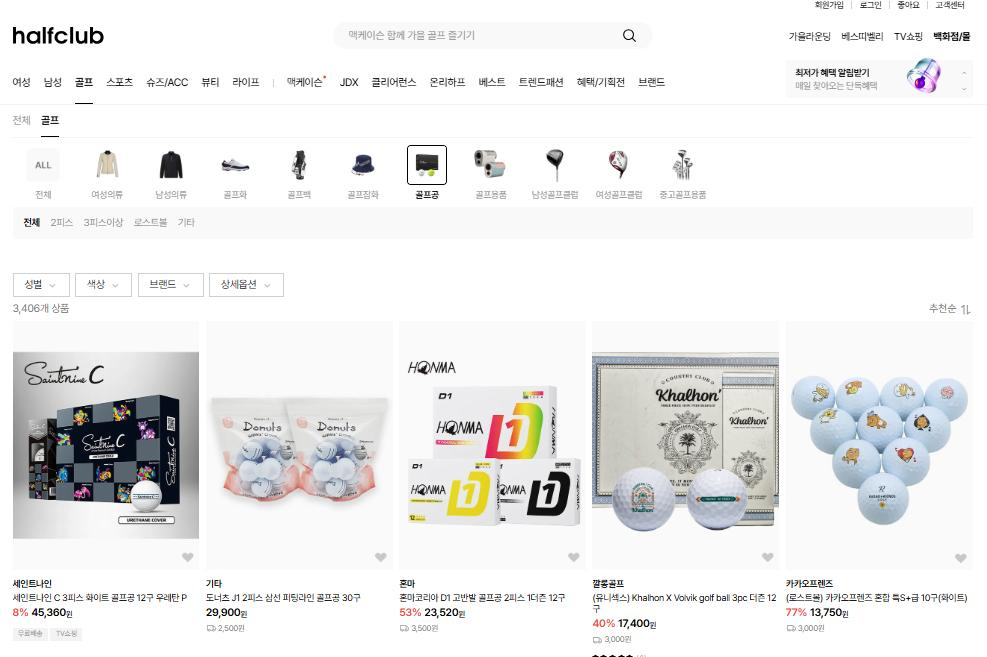button: (272, 154, 333, 206), (401, 145, 452, 205), (467, 150, 520, 206), (148, 149, 196, 204), (658, 155, 711, 203), (539, 145, 582, 202), (207, 152, 255, 201), (336, 153, 378, 207), (600, 152, 648, 199), (28, 154, 58, 203), (88, 153, 121, 197), (137, 68, 192, 91), (365, 74, 425, 95), (783, 29, 851, 44), (425, 75, 469, 92), (275, 75, 326, 89), (180, 217, 221, 233), (475, 76, 515, 91), (525, 75, 572, 87), (133, 217, 173, 231), (99, 68, 122, 91), (11, 75, 35, 95), (892, 33, 930, 45), (70, 75, 95, 93), (641, 75, 680, 86), (850, 29, 882, 42), (888, 1, 919, 14), (930, 31, 973, 40), (39, 77, 63, 93), (197, 77, 225, 90), (579, 80, 616, 89), (333, 79, 365, 89), (235, 76, 257, 90), (79, 221, 122, 228), (853, 4, 881, 14), (20, 216, 43, 228), (817, 5, 844, 15), (932, 5, 964, 13), (55, 221, 68, 225)
checkbox: (75, 272, 145, 298), (5, 274, 67, 302), (148, 268, 205, 296), (219, 272, 295, 293)
input_field: (329, 23, 650, 44)
popup: (783, 60, 972, 95)
